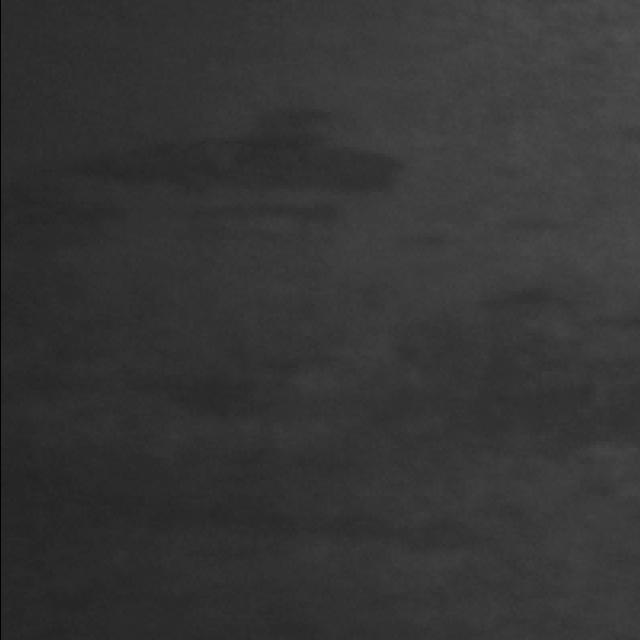inclusion: (6, 286, 640, 556), (78, 120, 404, 200)
